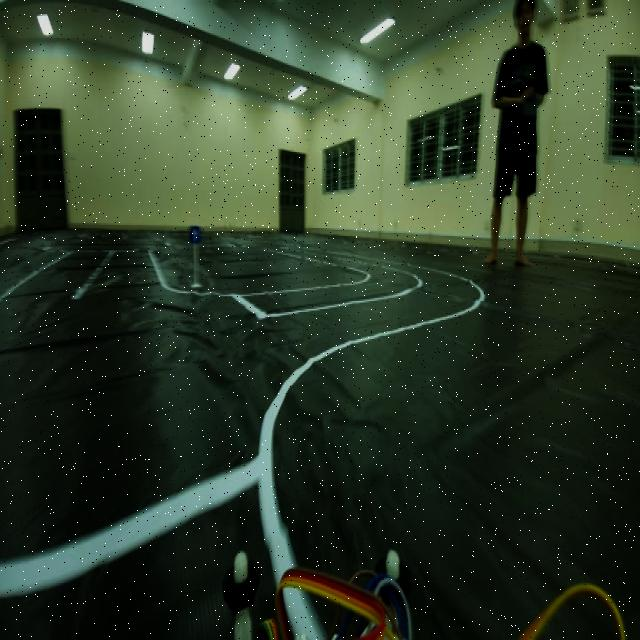onewayroad: (186, 220, 202, 254)
